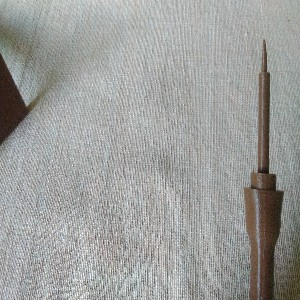solder: (242, 37, 285, 300)
